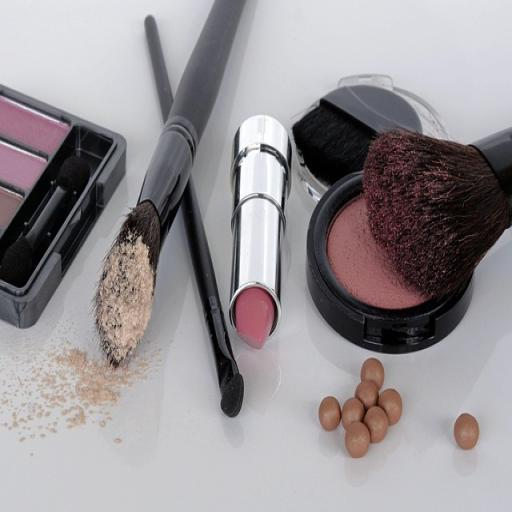lipstick: (230, 116, 291, 347)
